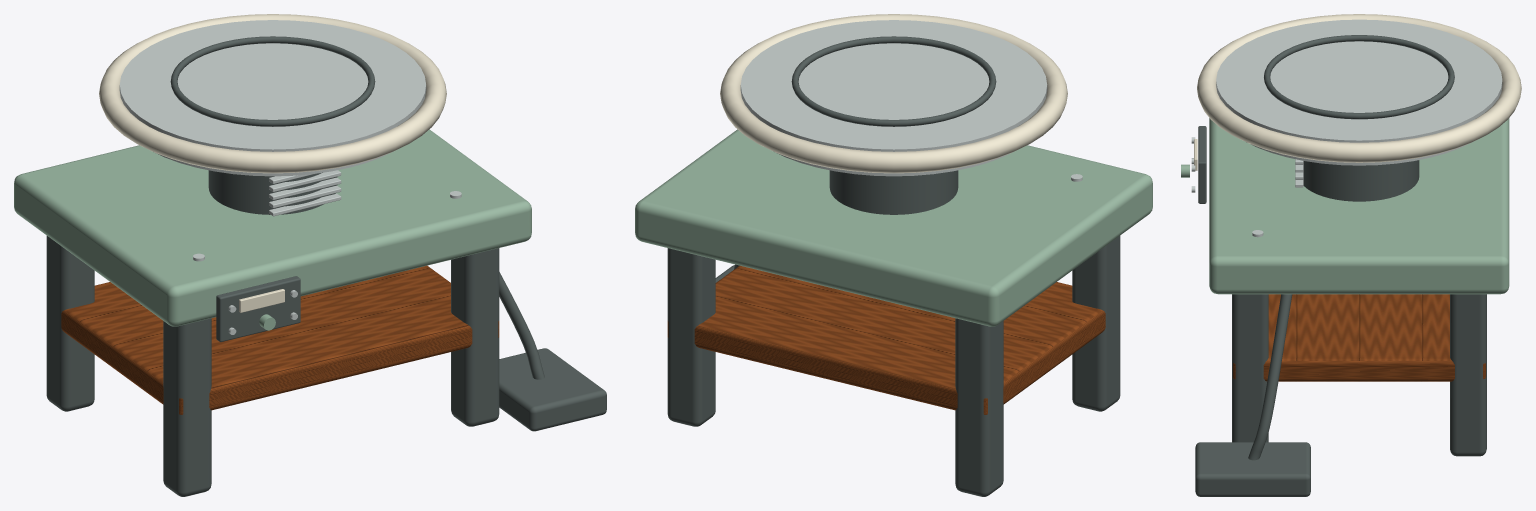
Rendered from ceramics-pottery-studio-electric-pottery-wheel-41875528__29482.glb.
The picture shows the model from 3 angles, left to right: view 1: azimuth 30°, elevation 25°; view 2: azimuth 150°, elevation 25°; view 3: azimuth 270°, elevation 25°; orthographic projection. The views are drawn at different scales.
Parts seen in each view (by area): view 1: electric-pottery-wheel; view 2: electric-pottery-wheel; view 3: electric-pottery-wheel.
Boxes of the visible parts, x1,y1,x2,y2 form: electric-pottery-wheel: [14, 14, 606, 496]; electric-pottery-wheel: [635, 14, 1152, 496]; electric-pottery-wheel: [1181, 14, 1521, 496].
Bounding box in the file's own units: 1 × 0.7436 × 0.738.
Materials: 5 (1 with a texture image).
